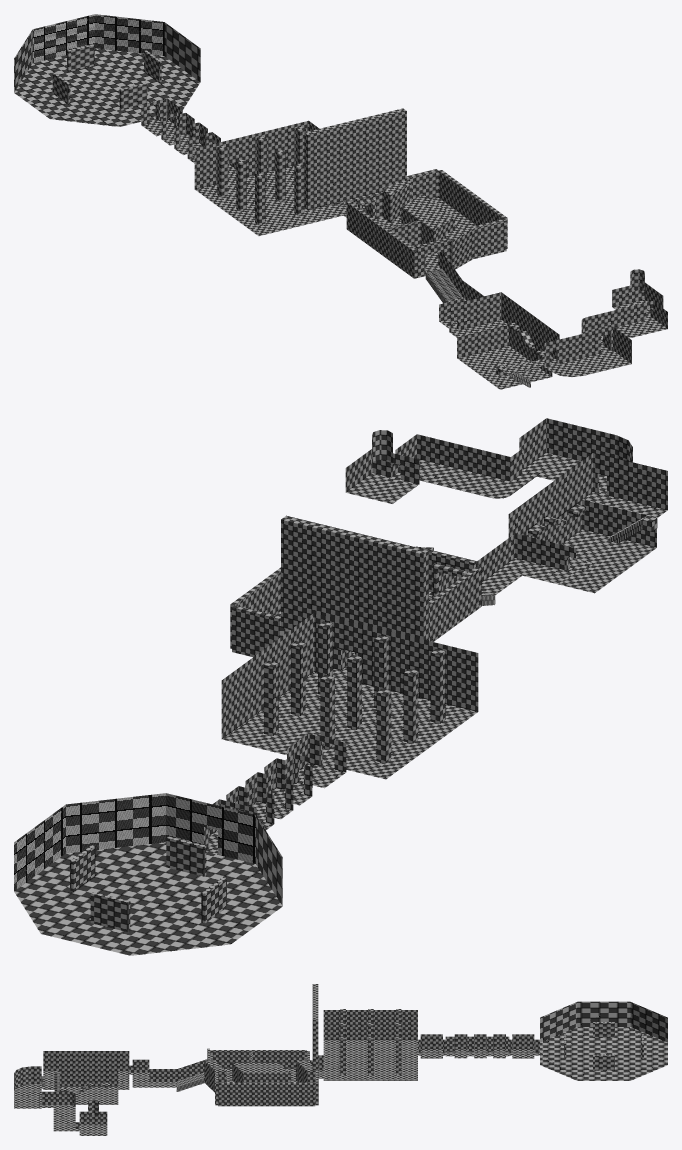
3 renders of one model, top to bottom at view 1: azimuth 30°, elevation 25°; view 2: azimuth 150°, elevation 25°; view 3: azimuth 270°, elevation 25°, orthographic. The views are drawn at different scales.
Visible parts, largest first — view 1: Cube.001-col.002, Cube.001-col.001, Cube-col, Cube.002-col, Cube.001-col.003, ramp; view 2: Cube.001-col.002, Cube-col, Cube.001-col.001, Cube.002-col, Cube.001-col.003; view 3: Cube.001-col.002, Cube-col, Cube.001-col.001, Cube.002-col, Cube.001-col.003, ramp.
Part boxes in pixels (bbox=[...]): Cube.001-col.002: bbox=[14, 14, 368, 235]; Cube.001-col.001: bbox=[304, 108, 507, 278]; Cube-col: bbox=[439, 252, 667, 389]; Cube.002-col: bbox=[217, 126, 343, 224]; Cube.001-col.003: bbox=[52, 44, 161, 110]; ramp: bbox=[425, 268, 462, 303]; Cube.001-col.002: bbox=[14, 613, 478, 955]; Cube-col: bbox=[345, 418, 667, 594]; Cube.001-col.001: bbox=[230, 515, 481, 666]; Cube.002-col: bbox=[264, 621, 445, 763]; Cube.001-col.003: bbox=[70, 836, 226, 931]; Cube.001-col.002: bbox=[310, 1001, 667, 1080]; Cube-col: bbox=[14, 1051, 207, 1135]; Cube.001-col.001: bbox=[204, 984, 318, 1106]; Cube.002-col: bbox=[340, 1009, 401, 1074]; Cube.001-col.003: bbox=[564, 1022, 643, 1070]; ramp: bbox=[176, 1072, 204, 1091].
Bounding box in the file's own units: 84.55 × 39.76 × 236.
2 materials, 2 textured.
